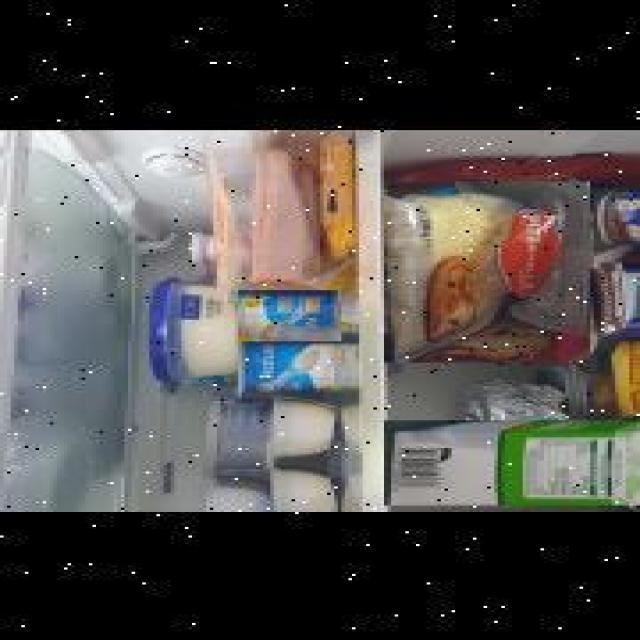cheese: (0, 416, 39, 512)
grated_cheese: (384, 179, 590, 361)
milk: (384, 418, 640, 504)
yogurt: (235, 338, 341, 398), (238, 287, 342, 338), (586, 260, 640, 332), (594, 186, 640, 260)
